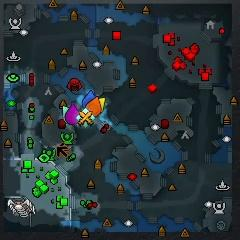Other: (77, 107, 94, 128)
p1: (82, 91, 96, 108)
p2: (62, 105, 70, 123)
p3: (65, 104, 80, 125)
p4: (99, 97, 106, 111)
p5: (86, 96, 101, 118)
x5Clone: (56, 146, 69, 157), (59, 142, 70, 153)
